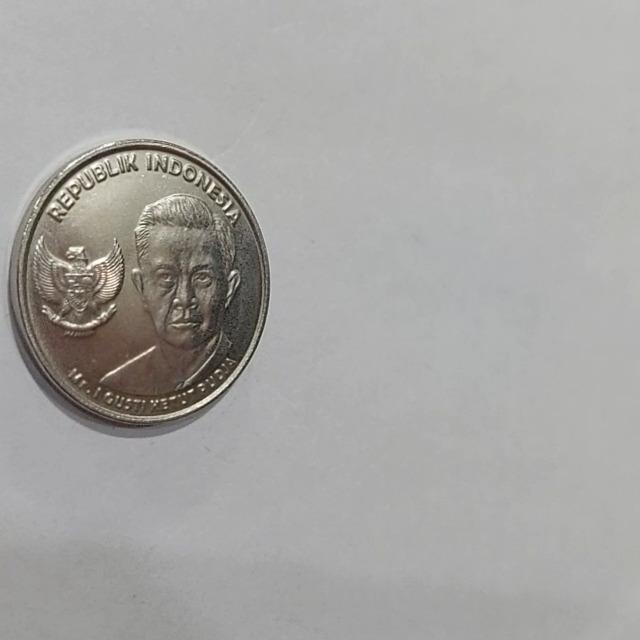Rp100: (8, 136, 271, 429), (94, 190, 244, 398)
